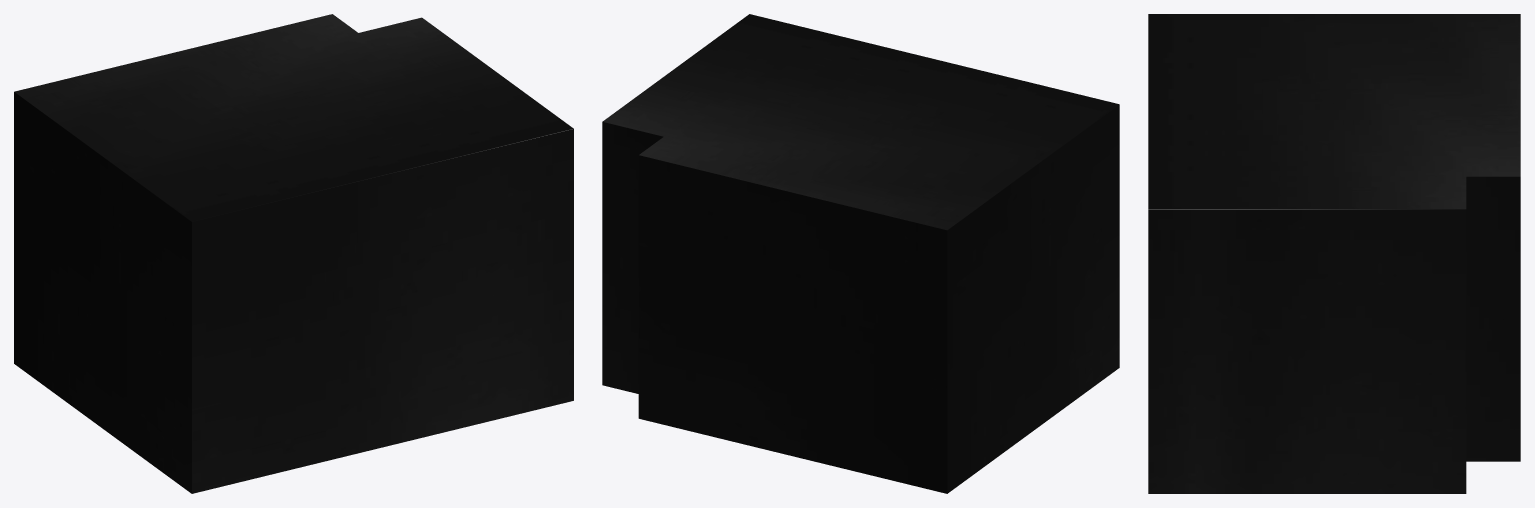
File: Floor.fbx
3 renders of one model, left to right at view 1: azimuth 30°, elevation 25°; view 2: azimuth 150°, elevation 25°; view 3: azimuth 270°, elevation 25°, orthographic. The views are drawn at different scales.
Parts seen in each view (by area): view 1: polySurface245; view 2: polySurface245; view 3: polySurface245.
Part boxes in pixels (left/top/right/bottom): polySurface245: left=14, top=14, right=573, bottom=493; polySurface245: left=602, top=14, right=1119, bottom=493; polySurface245: left=1148, top=14, right=1520, bottom=493.
Bounding box in the file's own units: 158 × 108 × 128.
1 material, 1 textured.
